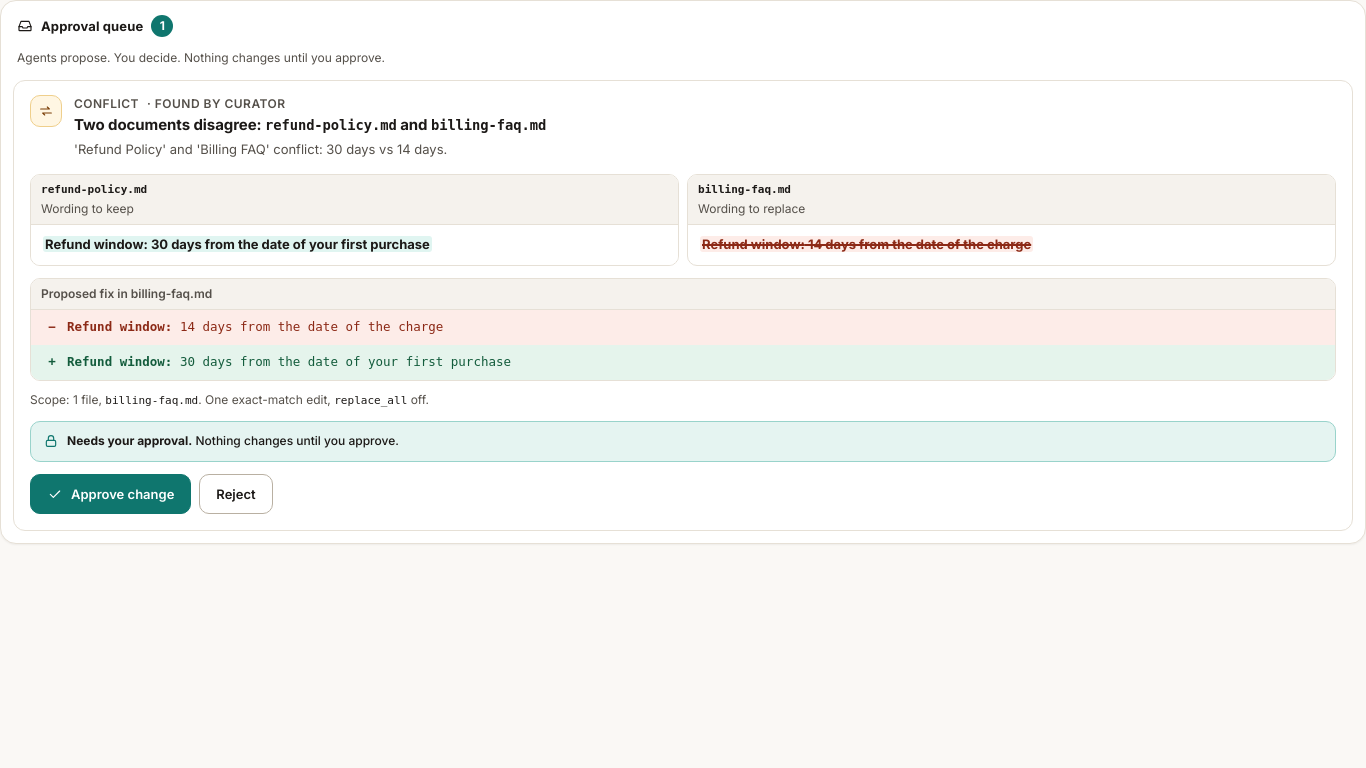
it: approval decisions › sends one request on a double click and disables the buttons while in flight
Later steps or results of the test are not shown.
Double-click the button "Approve change" at (111, 494), box [30, 474, 191, 514]
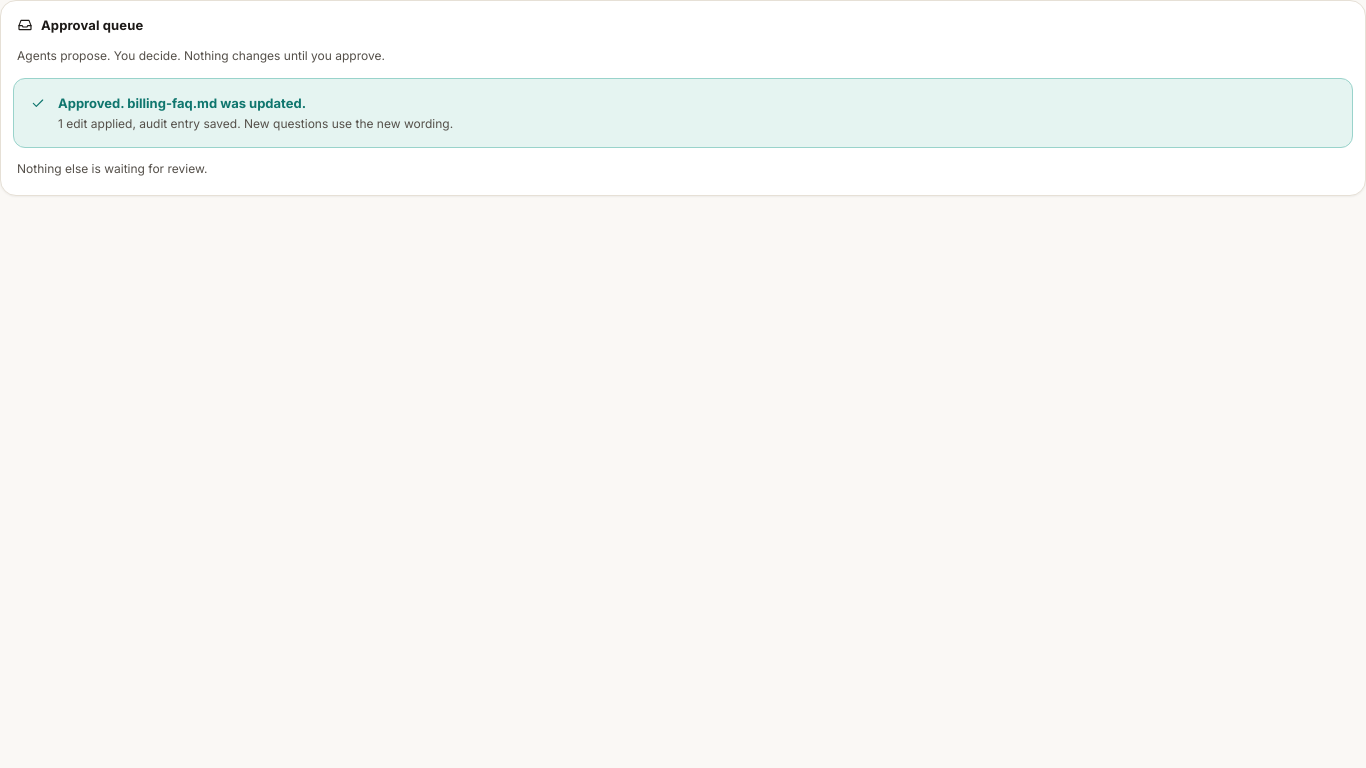
Check: the text "Approved. billing-faq.md was updated." is shown, box [58, 95, 306, 111]
Check: the button "Approve change" is gone
